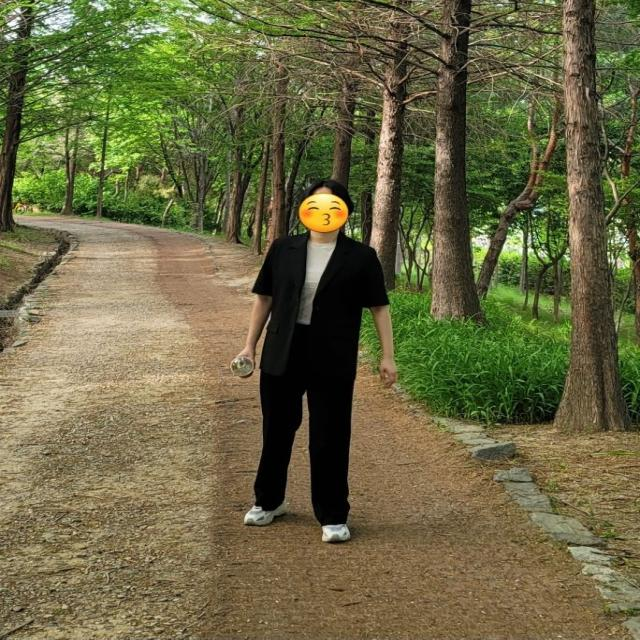blazer: (249, 230, 391, 378)
slacks: (255, 320, 360, 526)
